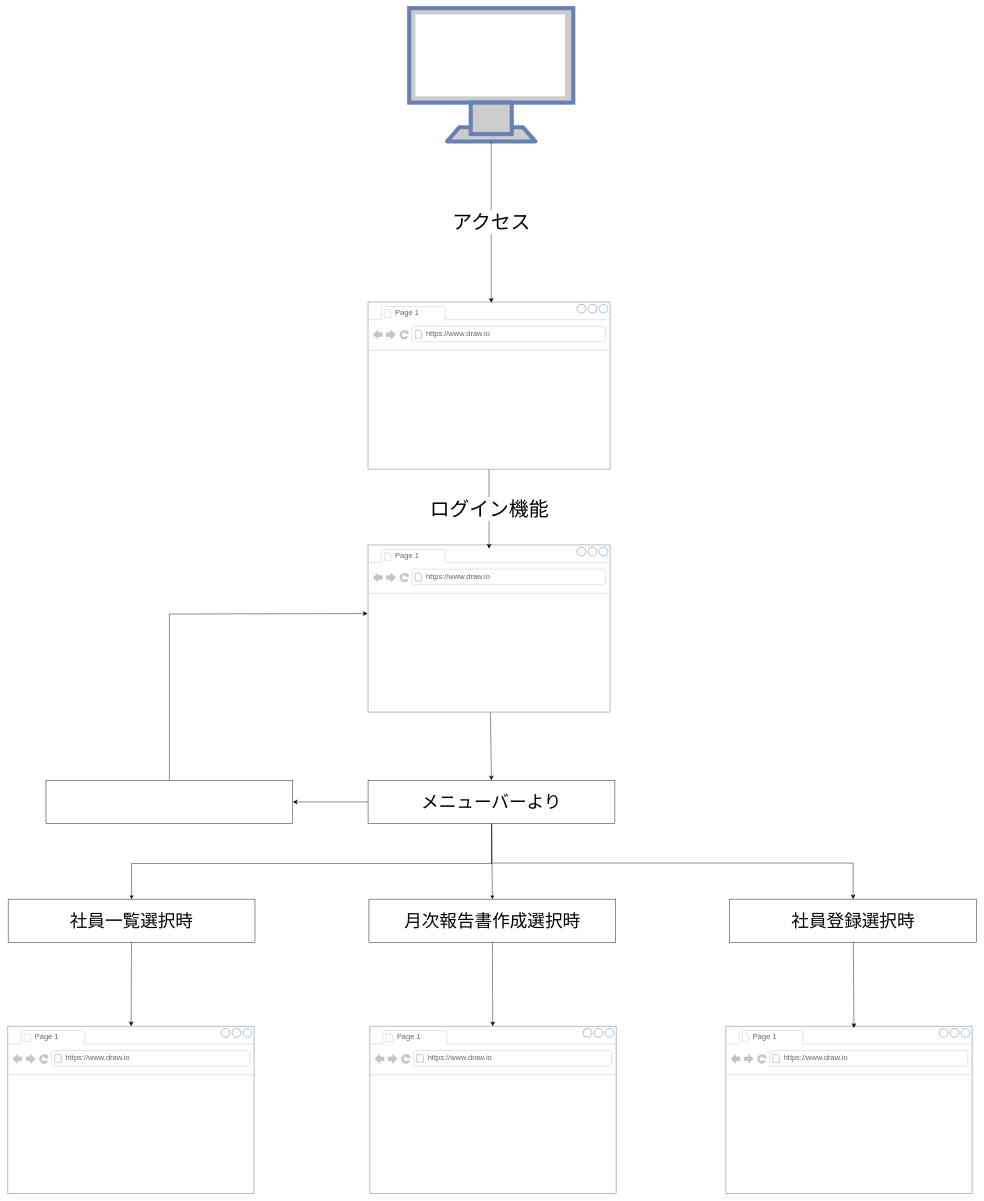
This 984x1201 diagram has some shape labels left out. Each missing label, with the box of its shape:
ホーム画面 (ログイン状態): (368, 544, 610, 712)
ホーム画面 (未ログイン状態): (368, 302, 610, 469)
ホーム画面選択時: (46, 780, 293, 823)
月次報告書作成: (369, 1026, 616, 1194)
社員一覧: (7, 1026, 254, 1194)
社員登録: (725, 1026, 972, 1194)
